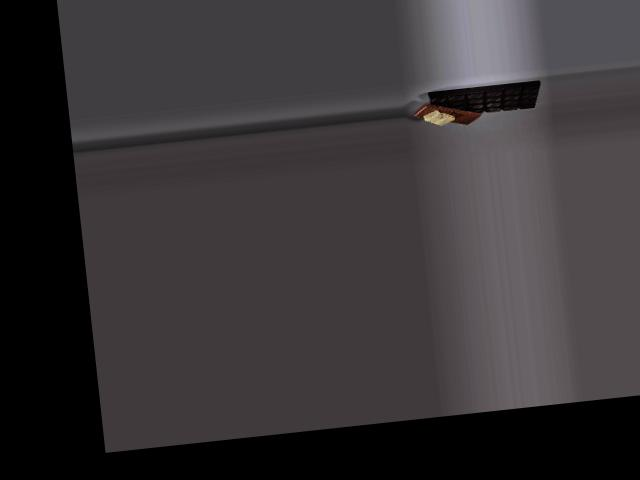chocolate: (420, 76, 543, 124)
